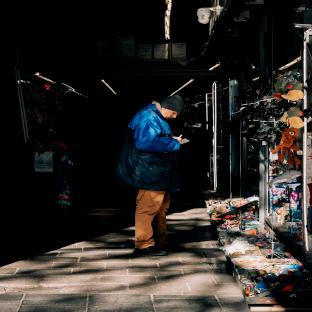Human: (113, 95, 184, 255)
